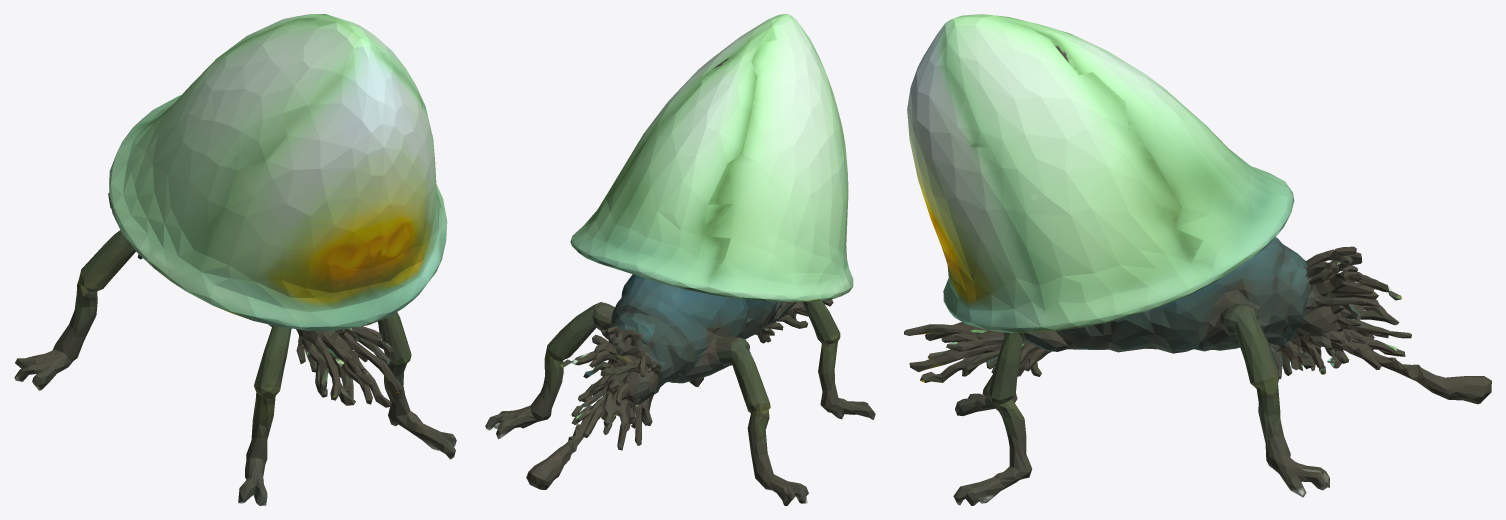
The picture shows the model from 3 angles, left to right: view 1: azimuth 30°, elevation 25°; view 2: azimuth 150°, elevation 25°; view 3: azimuth 270°, elevation 25°; orthographic projection. The views are drawn at different scales.
Visible parts, largest first — view 1: figure; view 2: figure; view 3: figure.
Part boxes in pixels (<box>): figure: <box>14,14,456,505</box>; figure: <box>485,14,875,505</box>; figure: <box>904,14,1491,505</box>.
Bounding box in the file's own units: 0.7851 × 0.9493 × 1.14.
1 material, 1 textured.
